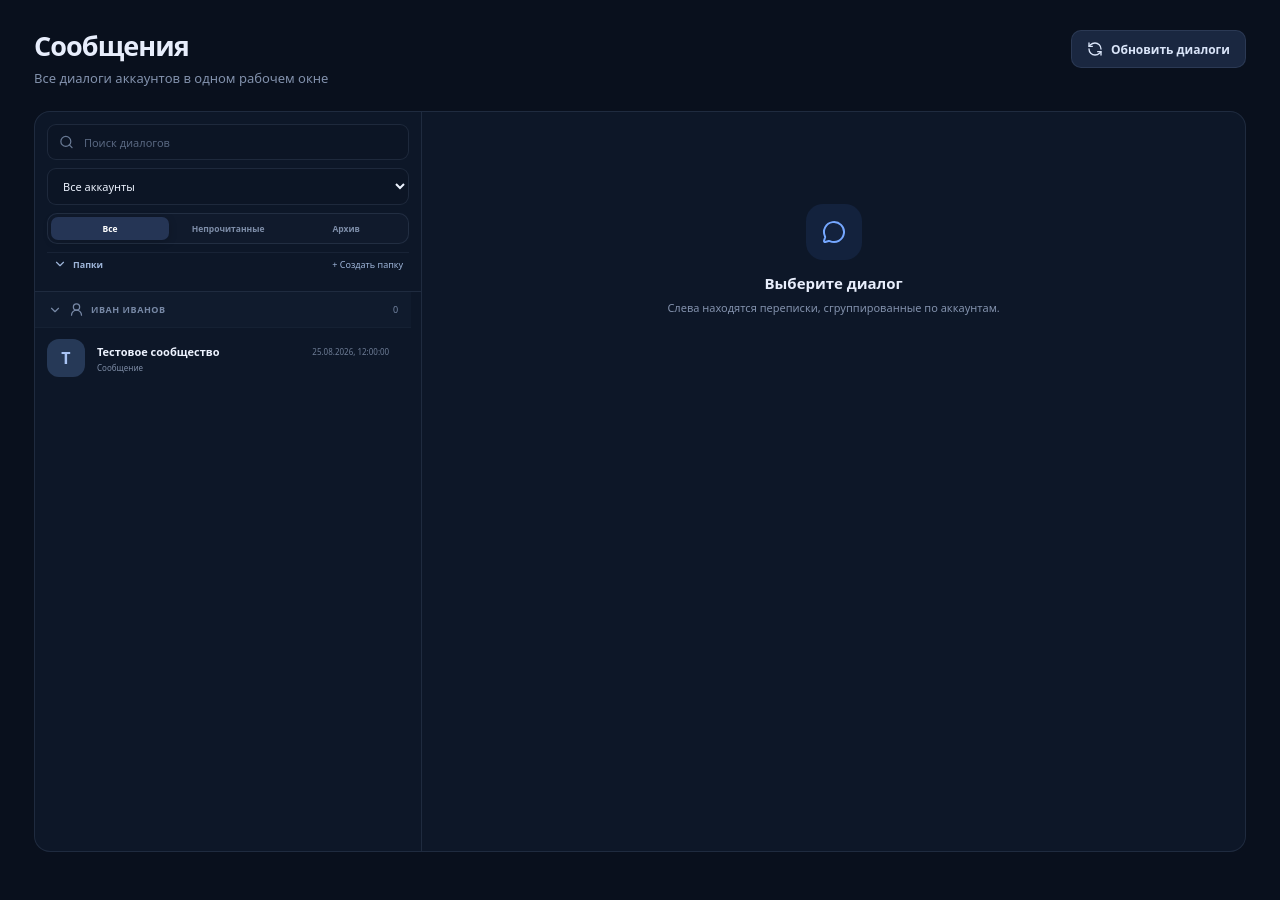
Test: InboxPage v0.4.0 › automatically syncs a selected dialog and shows reply identity
The image size is (1280, 900).
Click the button "Т Тестовое сообщество 25.08.2026, 12:00:00 Сообщение" at [66, 358], box [35,327,411,388]
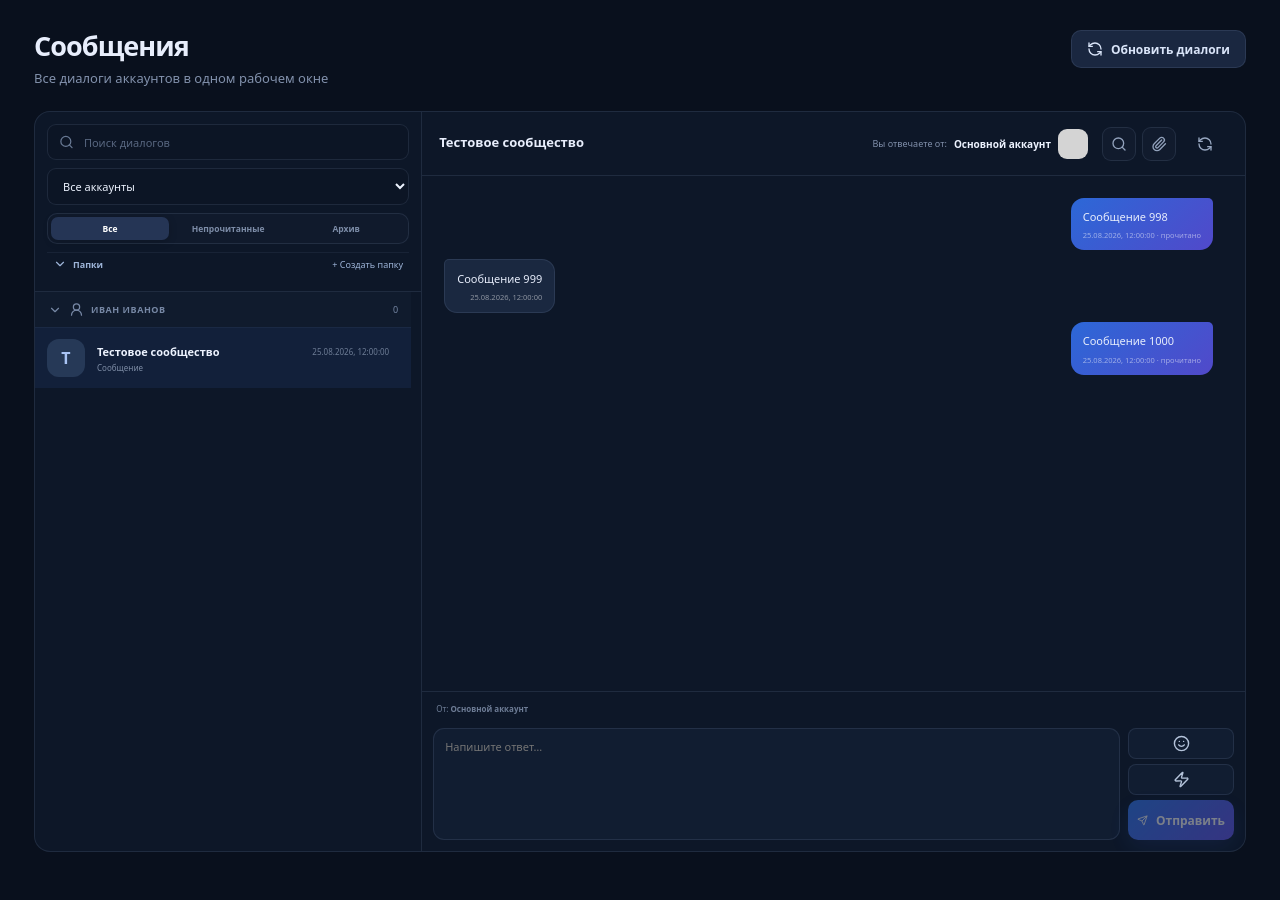
Result: the text "Вы отвечаете от:" is shown at [872,137,947,150]
Result: the text "Основной аккаунт" next to "Вы отвечаете от:" is shown at [954,137,1051,151]
Result: the text box labelled "ответ" is shown at [433,728,1120,840]
